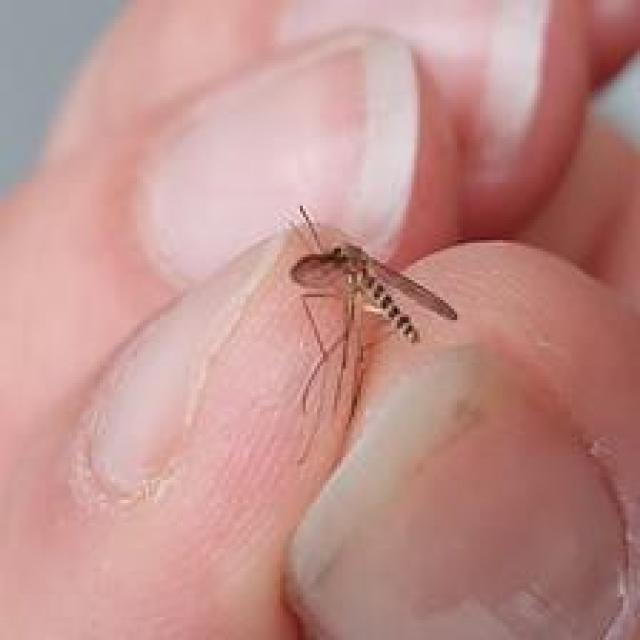Culex: (287, 203, 459, 423)
